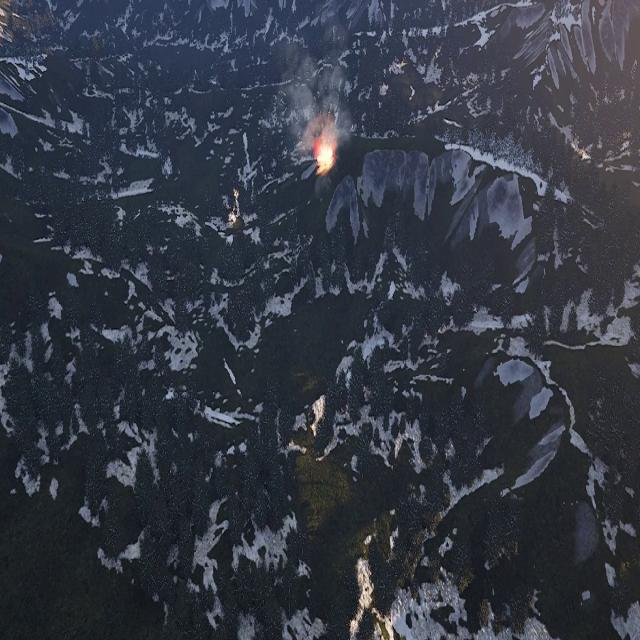fire: (314, 138, 334, 172)
smoke: (282, 56, 352, 150)
